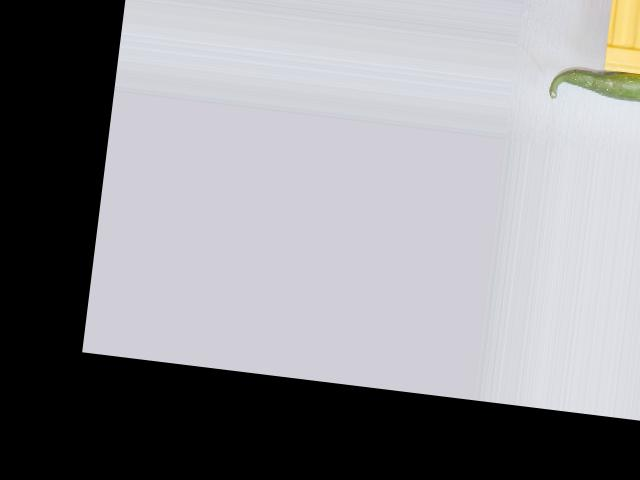cucumber: (547, 62, 640, 115)
